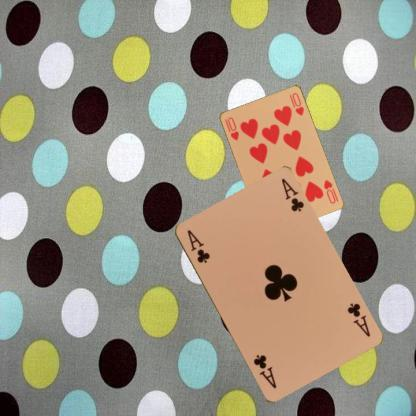10h: (222, 115, 240, 142), (321, 177, 337, 205)
Ac: (184, 226, 211, 264), (344, 300, 371, 338)
